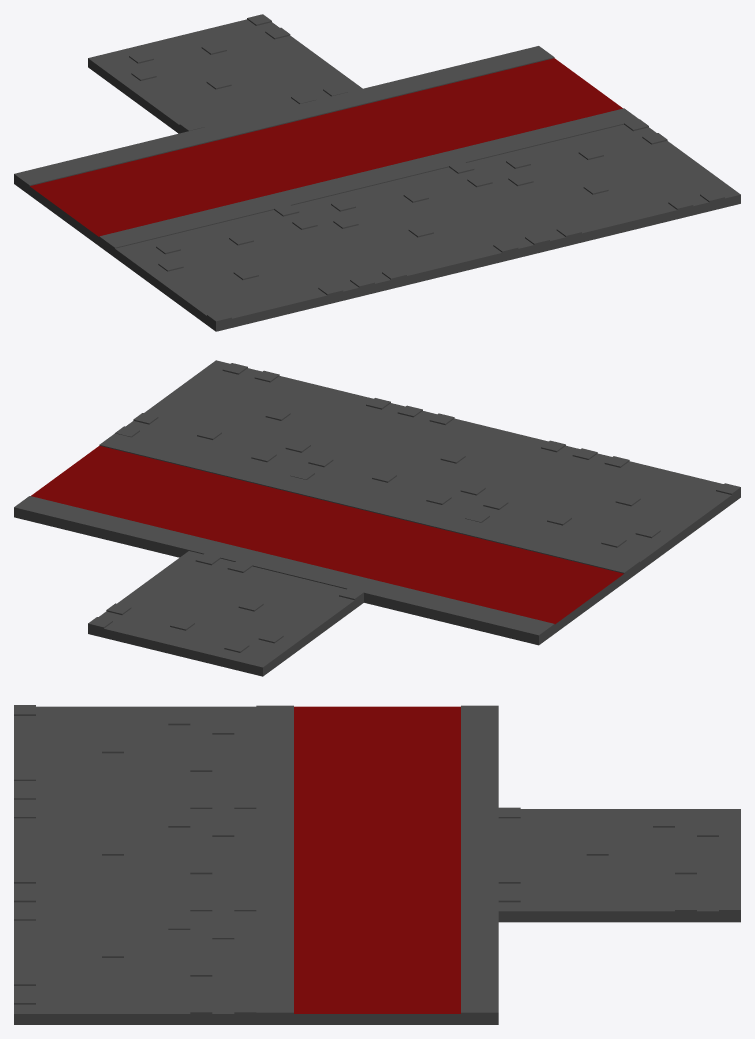
File: Floor2.glb
3 renders of one model, top to bottom at view 1: azimuth 30°, elevation 25°; view 2: azimuth 150°, elevation 25°; view 3: azimuth 270°, elevation 25°, orthographic. The views are drawn at different scales.
Visible parts, largest first — view 1: Cube.014, Cube.015, Cube.016, Cube.017, Cube.012, Cube.018, Cube.019; view 2: Cube.017, Cube.012, Cube.019, Cube.014, Cube.018, Cube.016, Cube.015; view 3: Cube.019, Cube.012, Cube.016, Cube.017, Cube.018, Cube.014, Cube.015.
Part boxes in pixels (left/top/right/bottom): Cube.014: left=115, top=205, right=390, bottom=331; Cube.015: left=291, top=162, right=565, bottom=288; Cube.016: left=467, top=119, right=740, bottom=246; Cube.017: left=14, top=131, right=289, bottom=257; Cube.012: left=88, top=14, right=362, bottom=133; Cube.018: left=189, top=88, right=464, bottom=205; Cube.019: left=364, top=46, right=639, bottom=162; Cube.017: left=364, top=519, right=639, bottom=645; Cube.012: left=88, top=551, right=363, bottom=676; Cube.019: left=14, top=433, right=289, bottom=557; Cube.014: left=465, top=445, right=740, bottom=570; Cube.018: left=189, top=476, right=464, bottom=592; Cube.016: left=115, top=360, right=390, bottom=475; Cube.015: left=290, top=403, right=565, bottom=518; Cube.019: left=256, top=910, right=498, bottom=1024; Cube.012: left=498, top=807, right=740, bottom=922; Cube.016: left=14, top=910, right=256, bottom=1024; Cube.017: left=256, top=705, right=498, bottom=808; Cube.018: left=256, top=808, right=498, bottom=911; Cube.014: left=14, top=705, right=256, bottom=808; Cube.015: left=14, top=807, right=256, bottom=911.
Bounding box in the file's own units: 24 × 0.4566 × 24.
